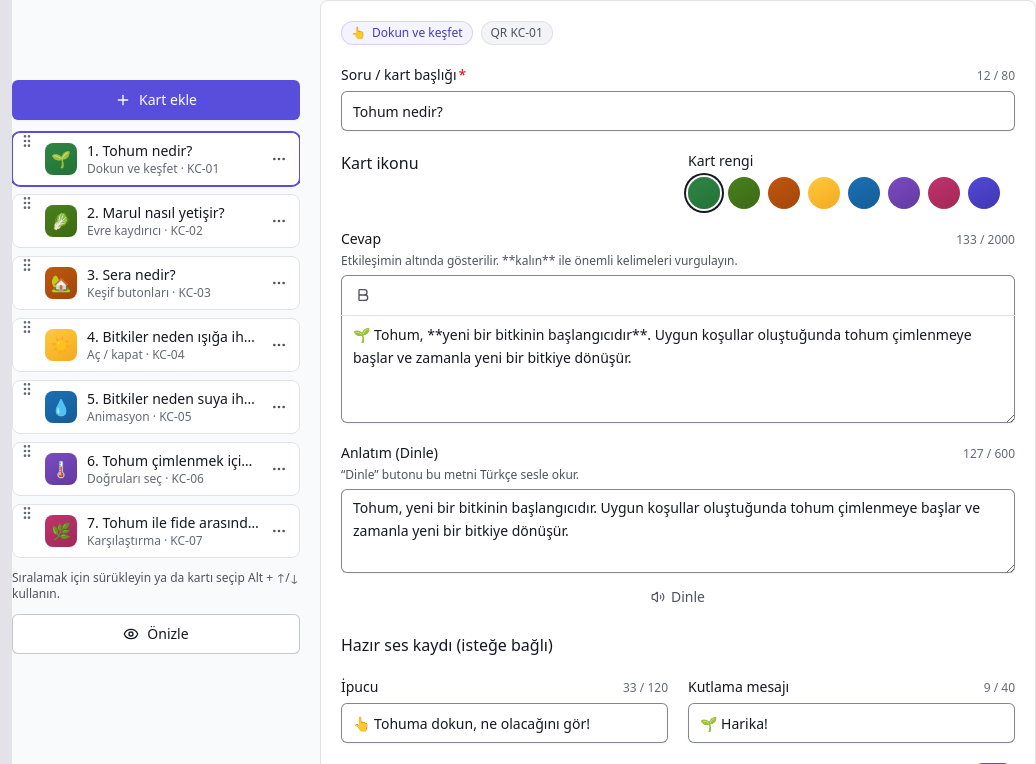
CardsTab › lets the deletion notice be dismissed
Step 1. Click the button named "Tohum nedir? için işlemler" → x=279, y=159, box [263,143,295,175]
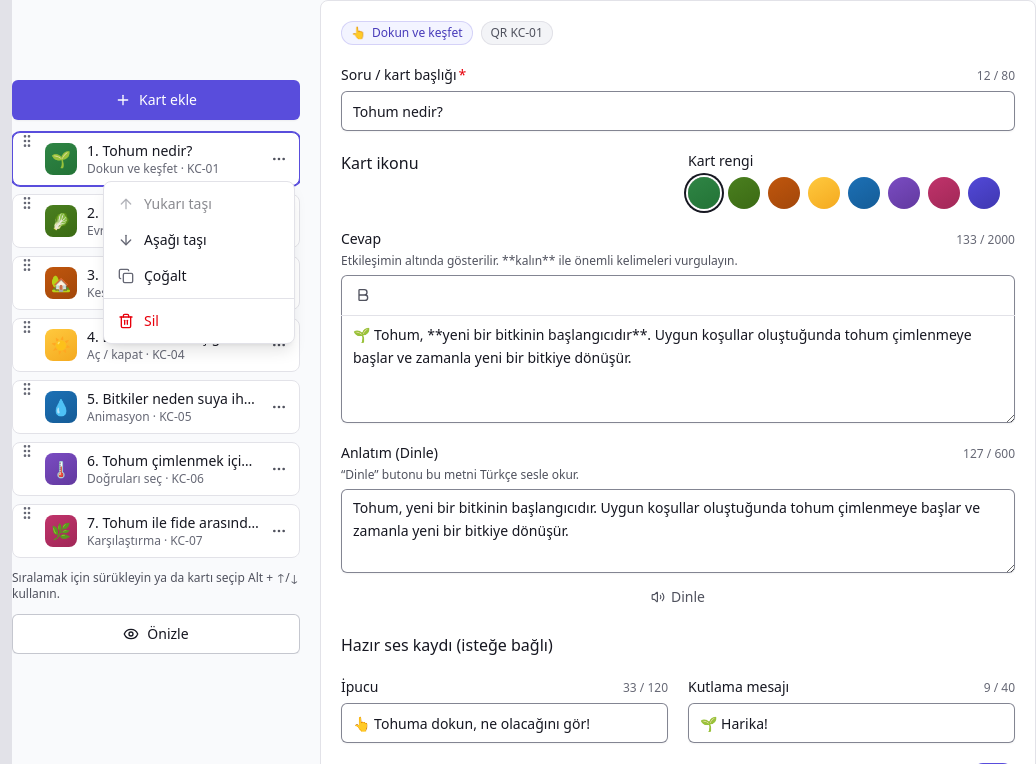
Step 2. Click the menu item "Sil" → x=126, y=321, box [118,311,159,330]
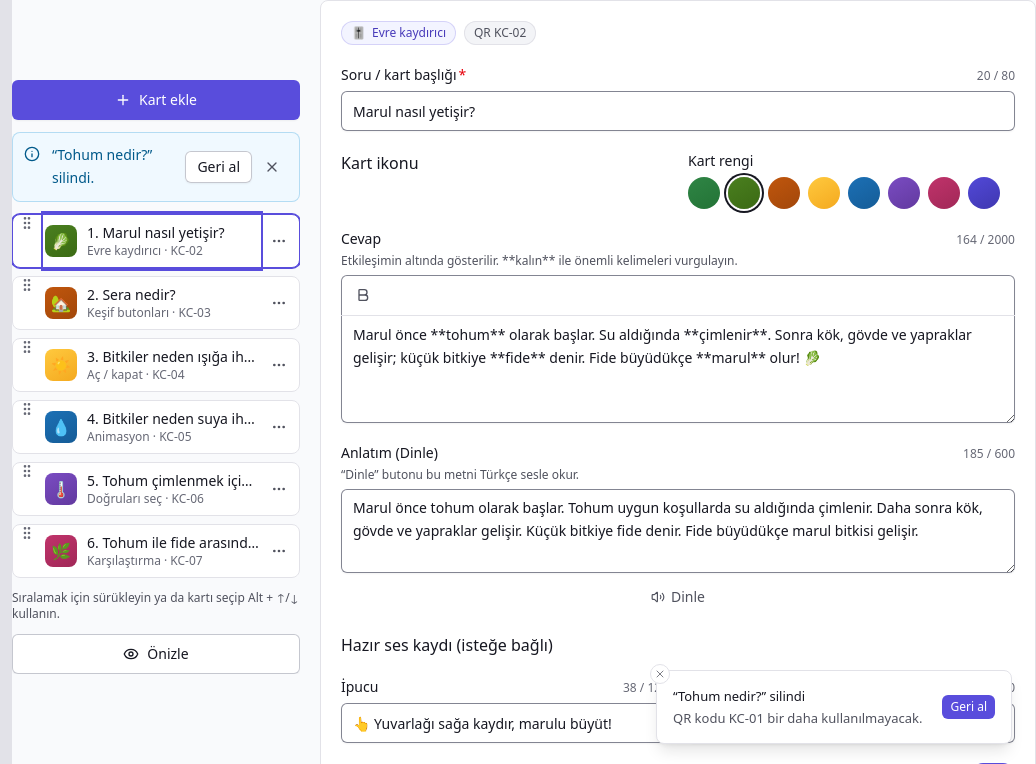
Step 3. Click the button named "Silme bildirimini kapat" → x=272, y=167, box [256,151,288,183]
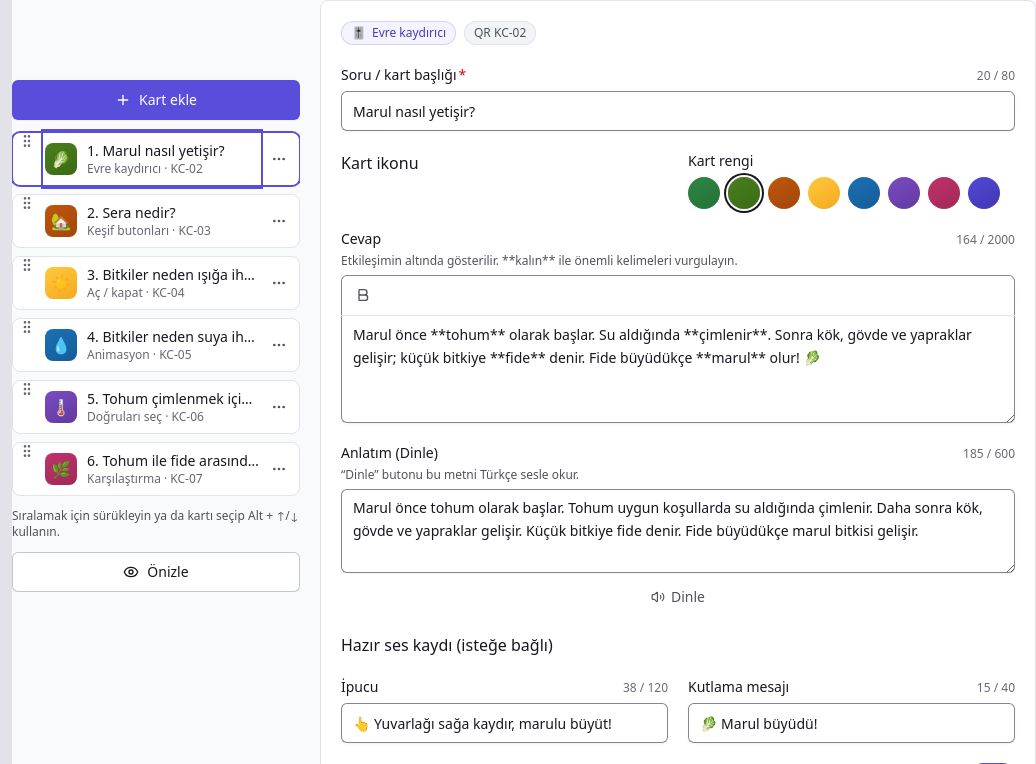
Now the button "Geri al" is gone
